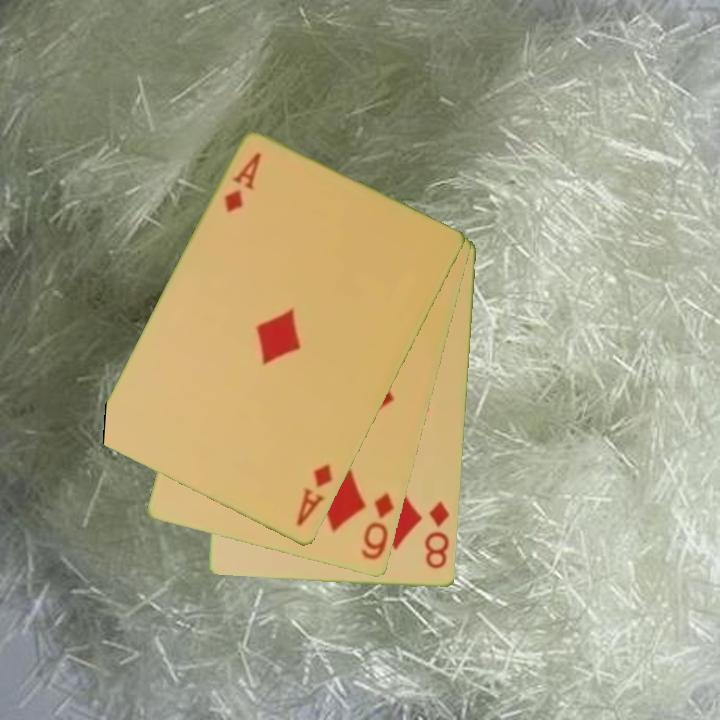6d: (358, 489, 397, 563)
8d: (421, 498, 453, 572)
Ad: (293, 460, 336, 530), (221, 149, 265, 217)
